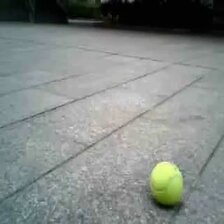tennis: (151, 162, 183, 202)
